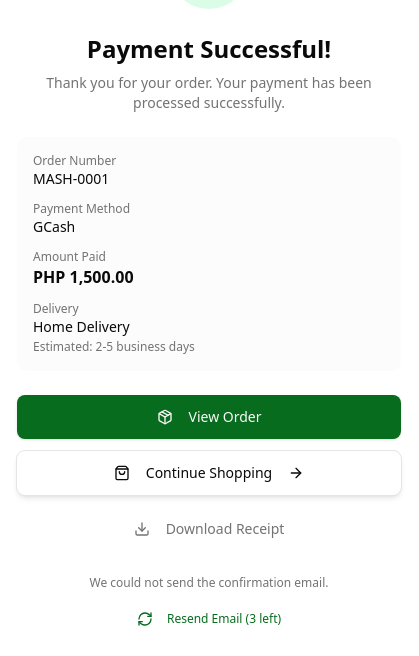
Test: PaymentSuccessPage › Email Sending › should disable resend after 3 retry attempts and show exhausted message
This screenshot has width=419, height=656.
(page scrolled)
Click the button "Resend Email (3 left)" at point(209, 619), box [125,599,293,639]
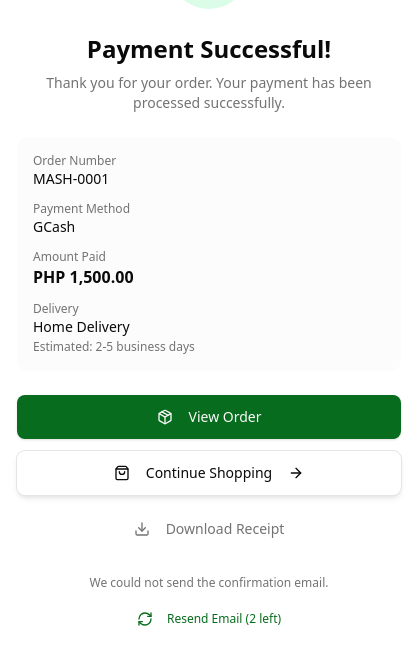
Check: the button "Resend Email (2 left)" is shown
 Retry 2
Click the button "Resend Email (2 left)" at point(209, 619), box [125,599,293,639]
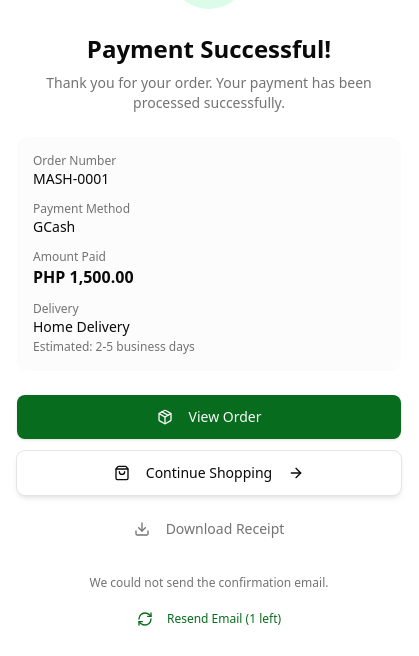
Check: the button "Resend Email (1 left)" is shown
Click the button "Resend Email (1 left)" at point(209, 619), box [125,599,293,639]
(page scrolled)
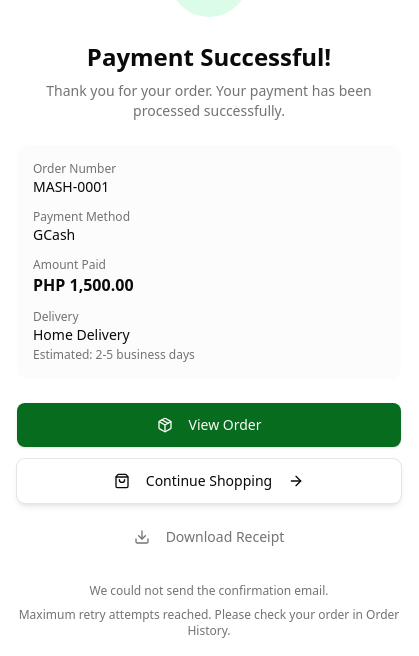
Check: the text "Maximum retry attempts reached" is shown, box [19,606,399,639]
Check: the button "Resend Email" is gone
